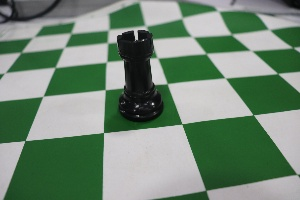black_rook: (105, 27, 171, 126)
